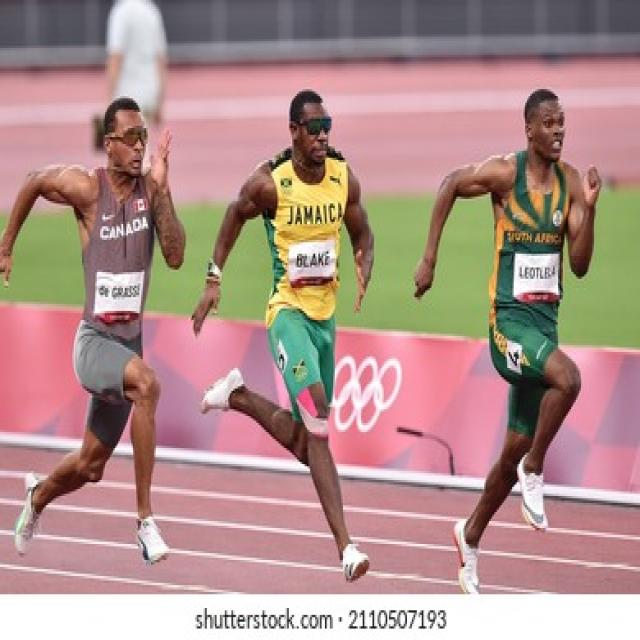running: (412, 89, 606, 599), (189, 87, 378, 585), (0, 97, 186, 563)
